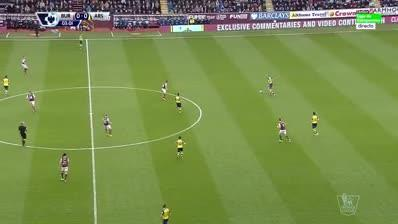futbol: (258, 88, 264, 95)
player: (274, 116, 293, 147), (56, 151, 73, 185), (173, 133, 187, 162), (308, 109, 322, 136), (157, 200, 173, 223), (101, 112, 114, 140), (24, 89, 38, 114), (158, 77, 170, 103), (173, 90, 185, 116), (265, 73, 278, 97), (1, 73, 13, 98), (20, 54, 31, 77), (77, 31, 87, 52)
referree: (17, 120, 30, 150)
